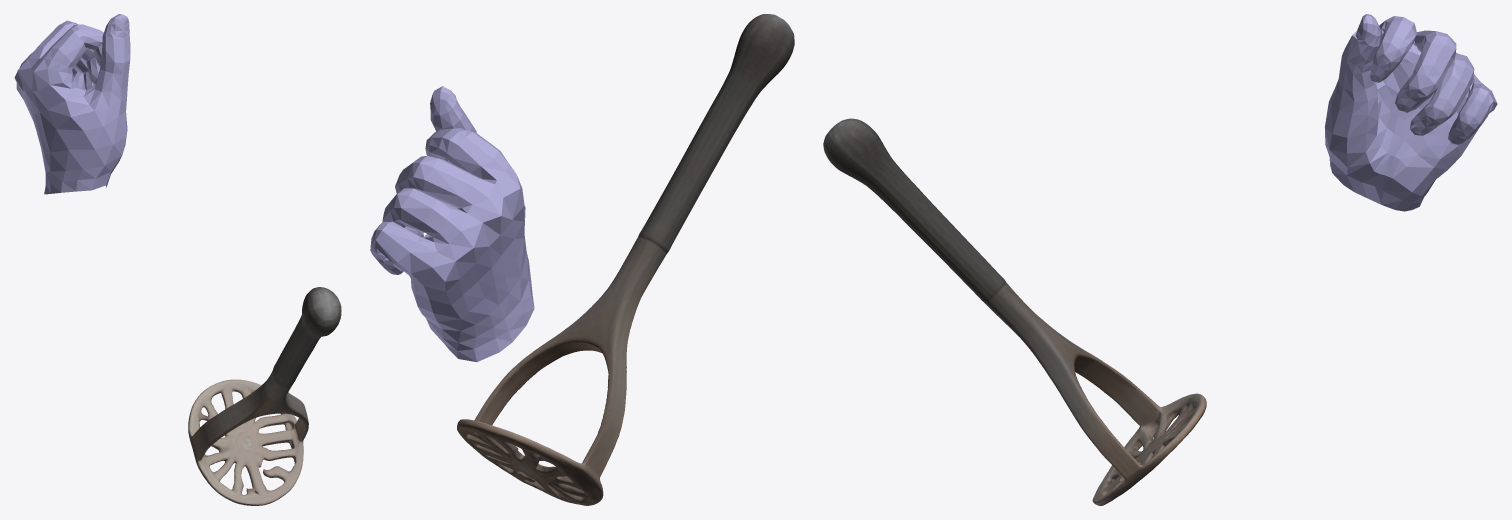
File: frame_0089_source_000089_hand_object.glb
3 views of the same model, side by side, from view 1: azimuth 30°, elevation 25°; view 2: azimuth 150°, elevation 25°; view 3: azimuth 270°, elevation 25° (orthographic). The views are drawn at different scales.
Parts seen in each view (by area): view 1: world; view 2: world; view 3: world.
Boxes of the visible parts, x1,y1,x2,y2 form: world: (14,14,341,505); world: (370,14,794,505); world: (823,14,1497,505).
Size of the model in its own units: 0.1109 by 0.2832 by 0.3681.
